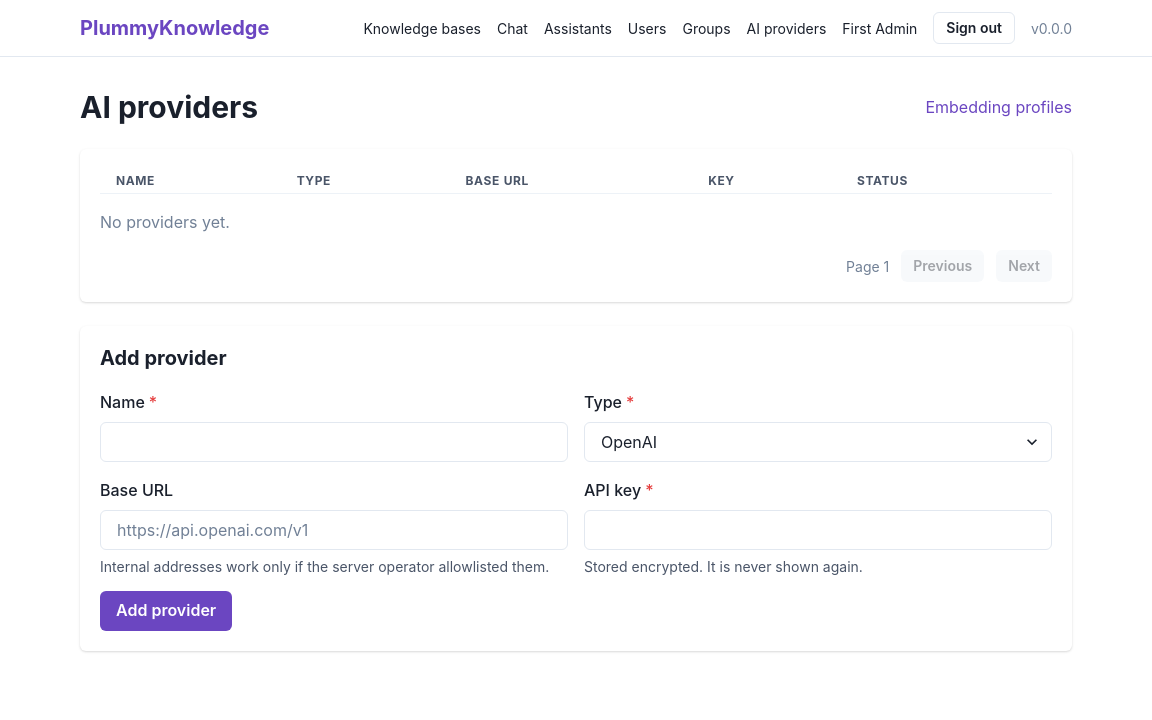
it: AI providers pages › shows a network policy refusal under the base URL field
This screenshot has width=1152, height=720.
Step 1. Type "Metadata" into the field labelled "Name*" → [334, 442], box [100,422,568,462]
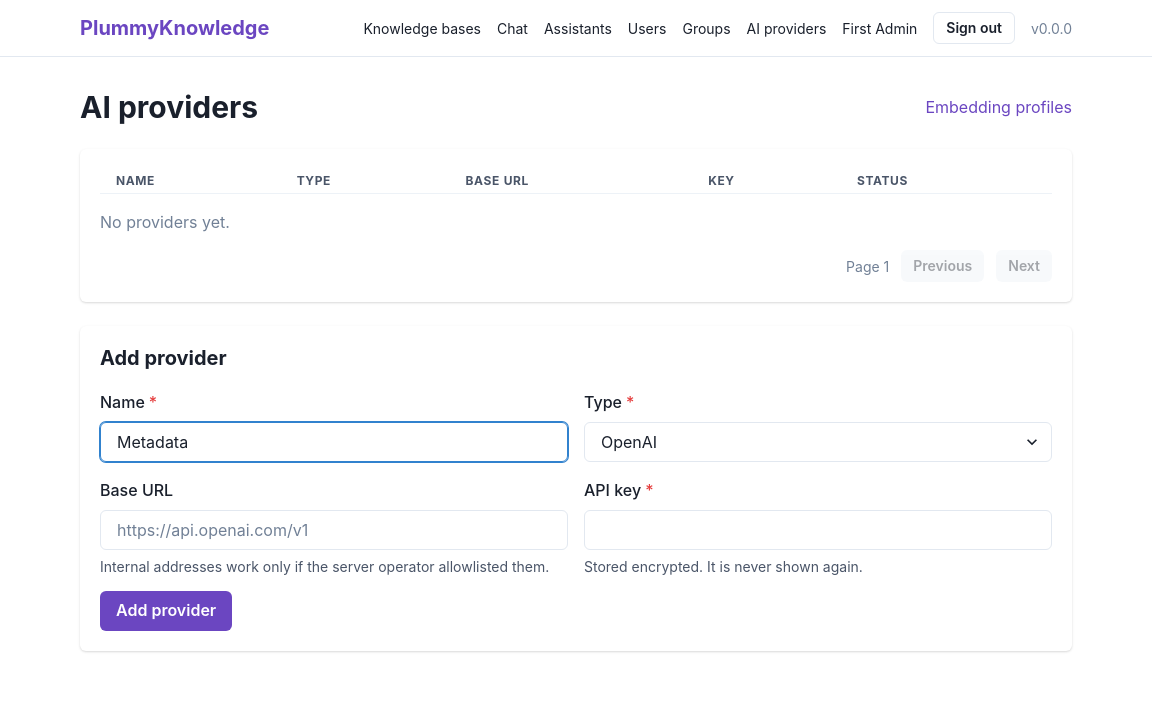
Step 2. Type "https://169.254.169.254" into the field labelled "Base URL" → [334, 530], box [100,510,568,550]
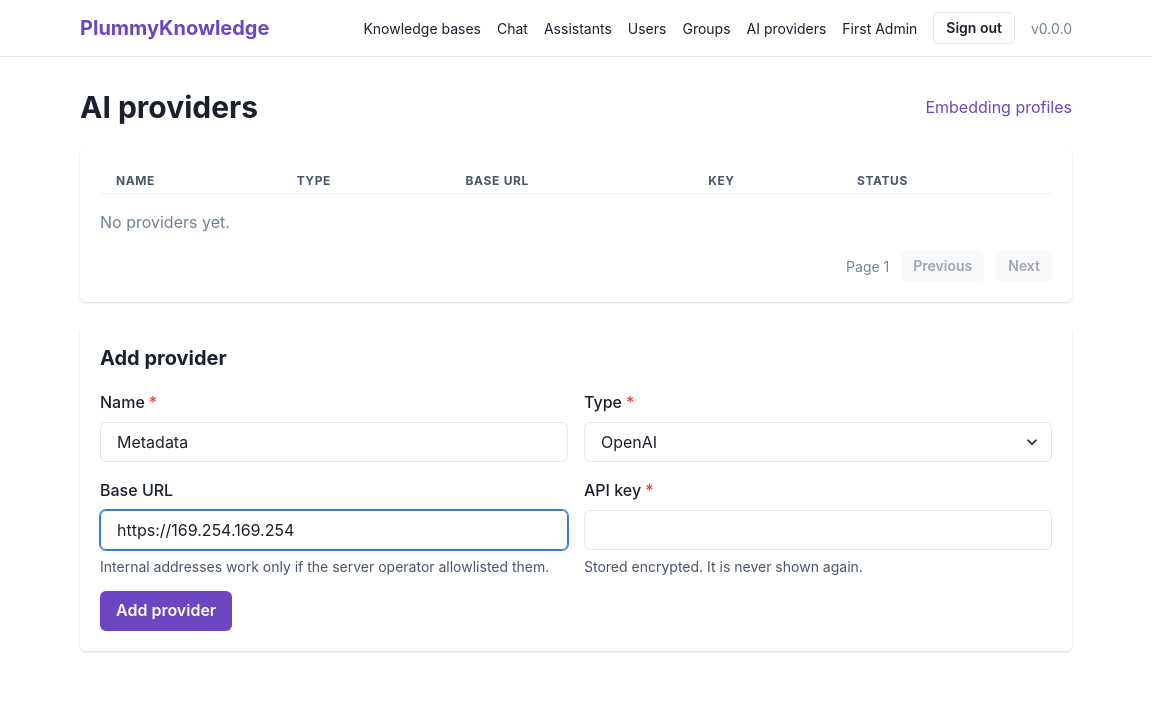
Step 3. Type "sk-test-key-typed-in-the-browser-1234" into the password field labelled "API key*" → [818, 530], box [584,510,1052,550]
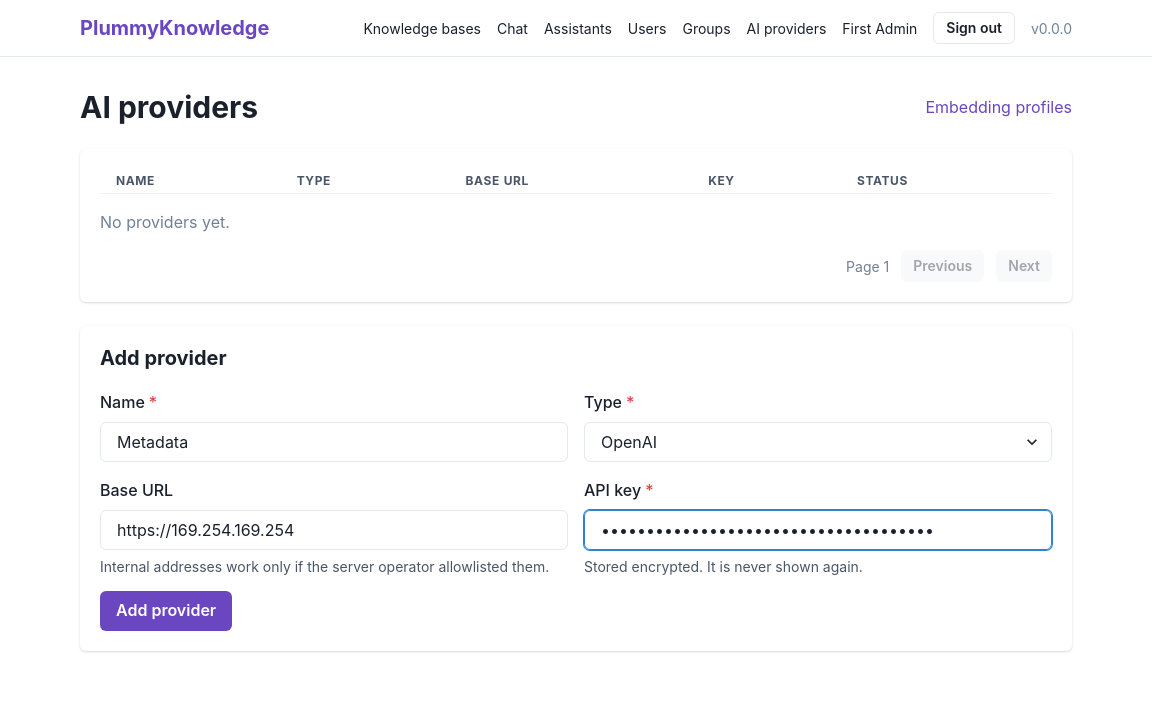
Step 4. Click the button "Add provider" → [166, 611], box [100,591,232,631]
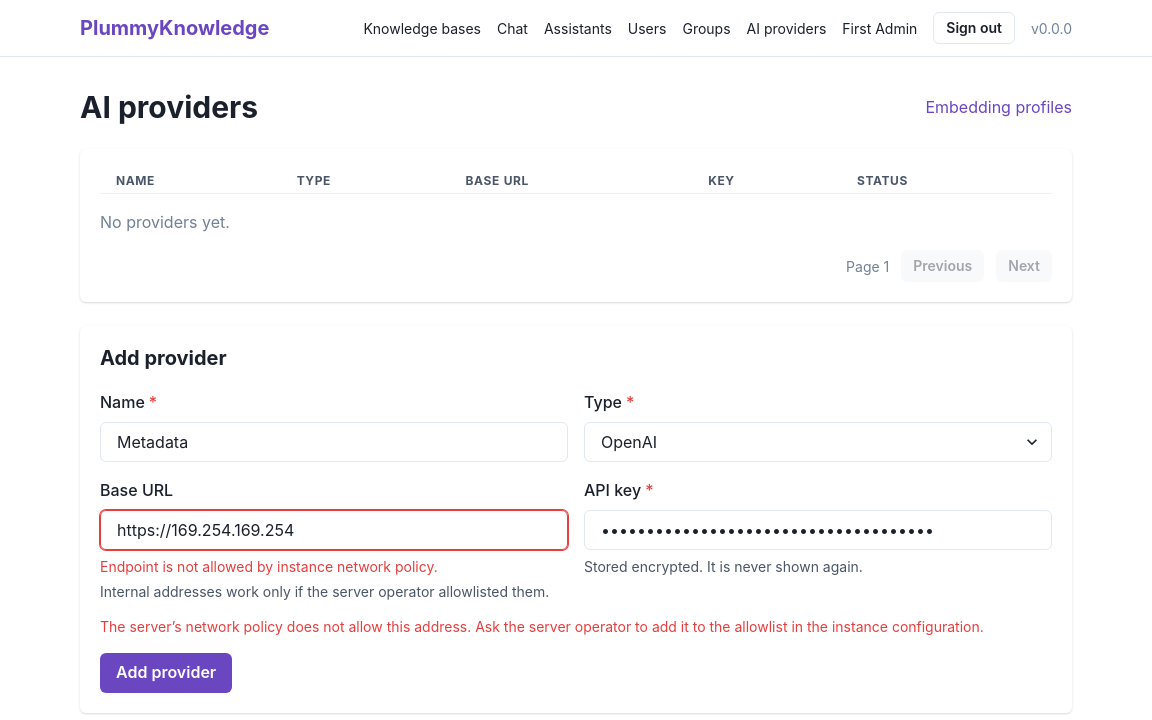
Result: the text "Endpoint is not allowed by instance network policy." is shown at [100,558,438,575]
Result: the text "allowlist in the instance configuration" is shown at [100,618,984,635]
